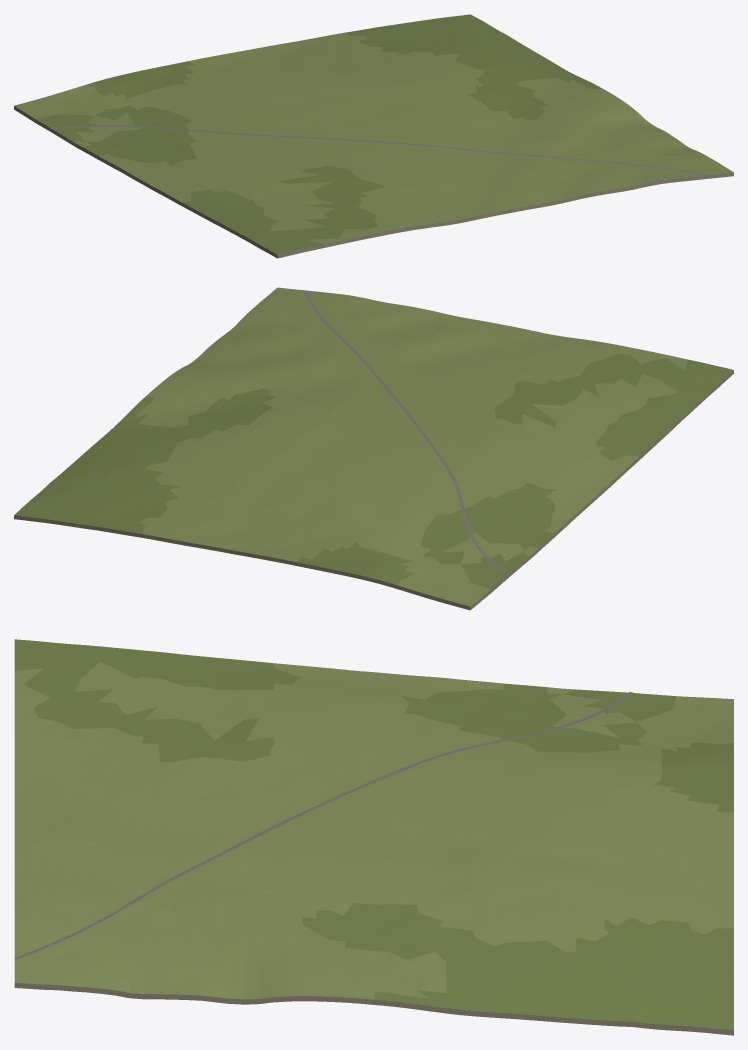
Rendered from parca_+10_-3-uzak.glb.
3 views of the same model, one above another, from view 1: azimuth 30°, elevation 25°; view 2: azimuth 150°, elevation 25°; view 3: azimuth 270°, elevation 25° (orthographic). The views are drawn at different scales.
Parts seen in each view (by area): view 1: parca_+10_-3_arazi_uzak, parca_+10_-3_yollar_uzak; view 2: parca_+10_-3_arazi_uzak, parca_+10_-3_yollar_uzak; view 3: parca_+10_-3_arazi_uzak, parca_+10_-3_yollar_uzak.
Part boxes in pixels (x1=…): parca_+10_-3_arazi_uzak: x1=14, y1=14, x2=733, y2=258; parca_+10_-3_yollar_uzak: x1=50, y1=125, x2=706, y2=175; parca_+10_-3_arazi_uzak: x1=14, y1=287, x2=733, y2=610; parca_+10_-3_yollar_uzak: x1=303, y1=290, x2=509, y2=574; parca_+10_-3_arazi_uzak: x1=14, y1=639, x2=733, y2=1035; parca_+10_-3_yollar_uzak: x1=14, y1=692, x2=633, y2=959.
Size of the model in its own units: 1003 by 142 by 1001.
